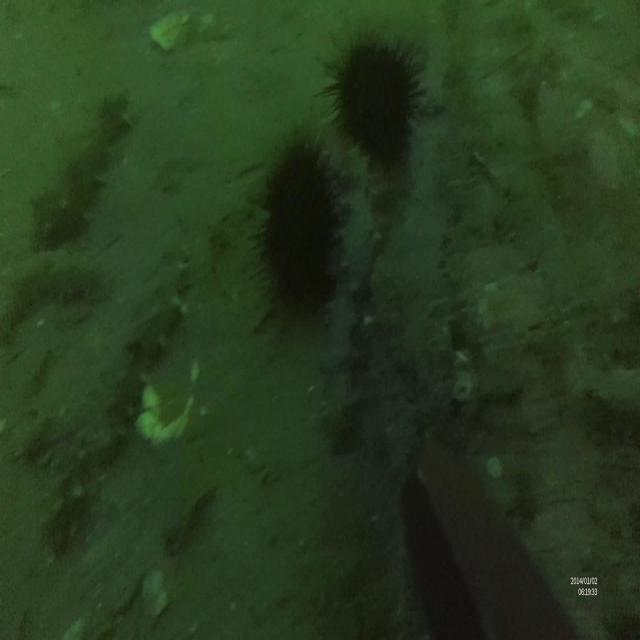echinus: (250, 132, 348, 330), (324, 21, 434, 184)
holothurian: (46, 260, 192, 561), (28, 80, 133, 250), (0, 263, 111, 340)
